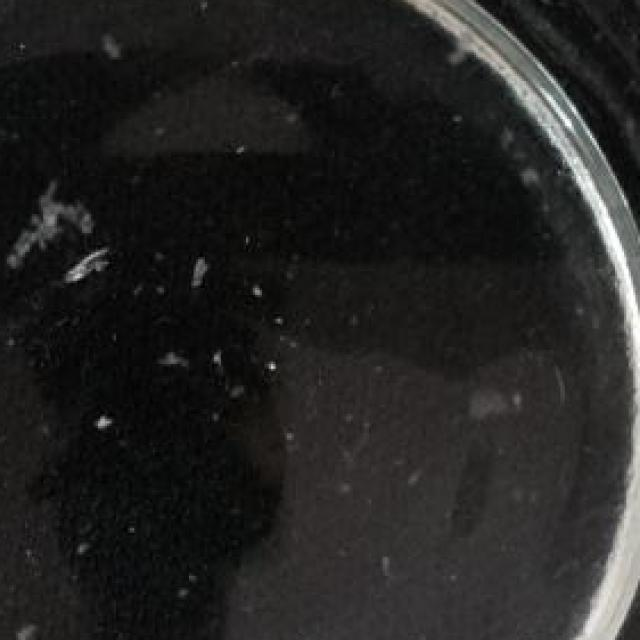Microplastic: (0, 174, 100, 269), (52, 240, 126, 293), (180, 238, 225, 304), (75, 395, 130, 442), (86, 14, 130, 62), (146, 336, 184, 380), (7, 602, 41, 640)
